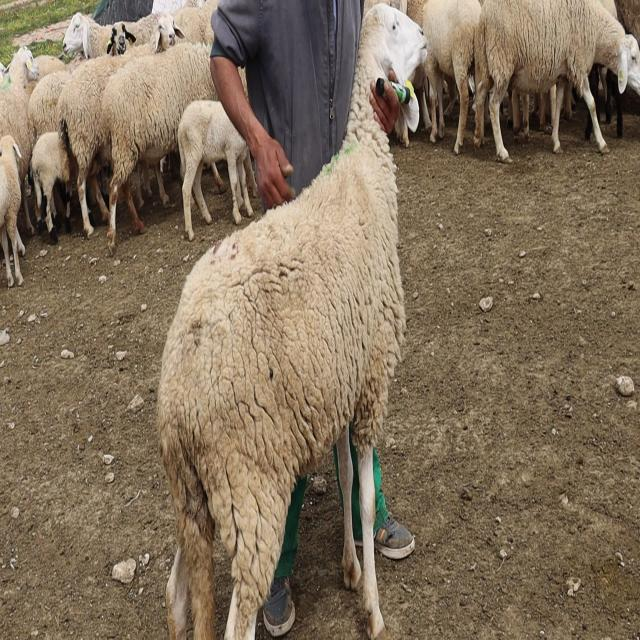Score_1: (157, 4, 427, 639)
